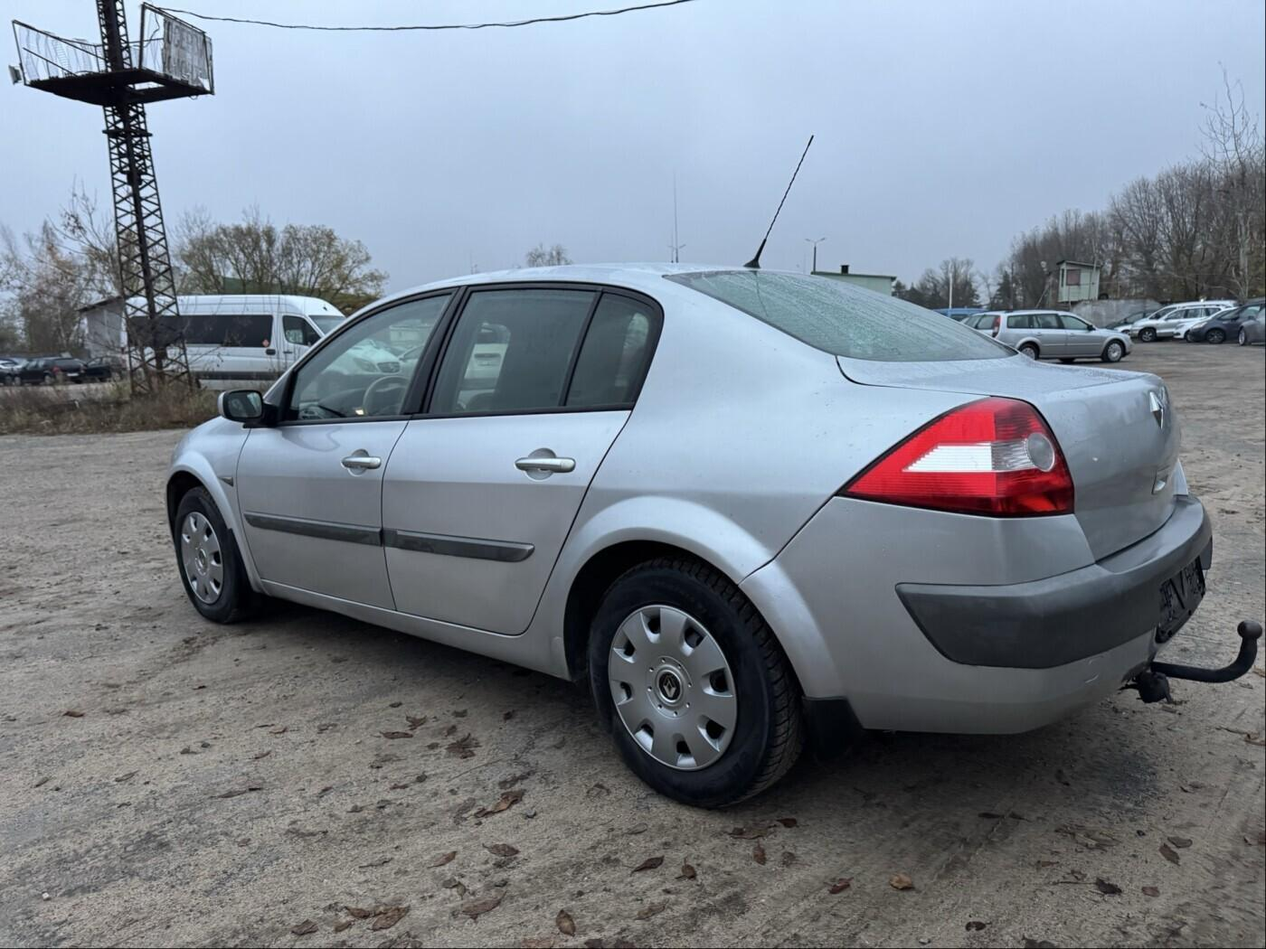Megane_2005-2009: (152, 260, 1219, 795)
